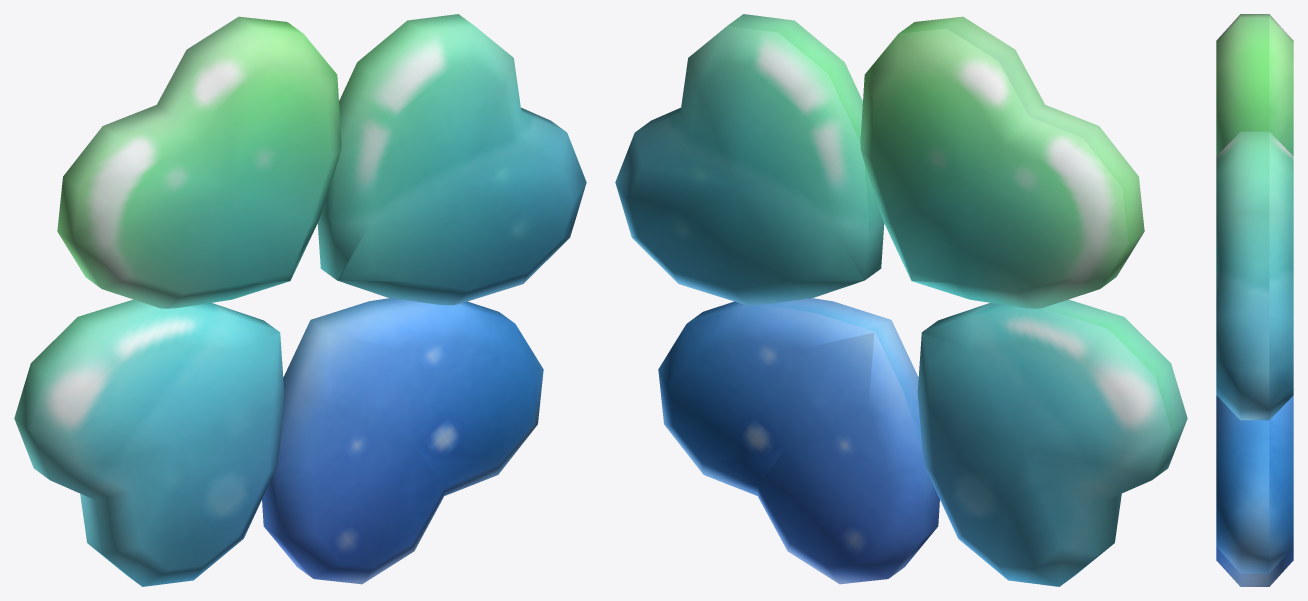
File: scenes_common_tools04b.FBX
3 renders of one model, left to right at view 1: azimuth 30°, elevation 25°; view 2: azimuth 150°, elevation 25°; view 3: azimuth 270°, elevation 25°, orthographic. The views are drawn at different scales.
Visible parts, largest first — view 1: scenes_common_tools04b; view 2: scenes_common_tools04b; view 3: scenes_common_tools04b.
Boxes of the visible parts, left/top/right/bottom form: scenes_common_tools04b: left=14, top=14, right=586, bottom=586; scenes_common_tools04b: left=615, top=14, right=1187, bottom=586; scenes_common_tools04b: left=1216, top=14, right=1293, bottom=586.
Size of the model in its own units: 76.85 by 76.85 by 10.38.
